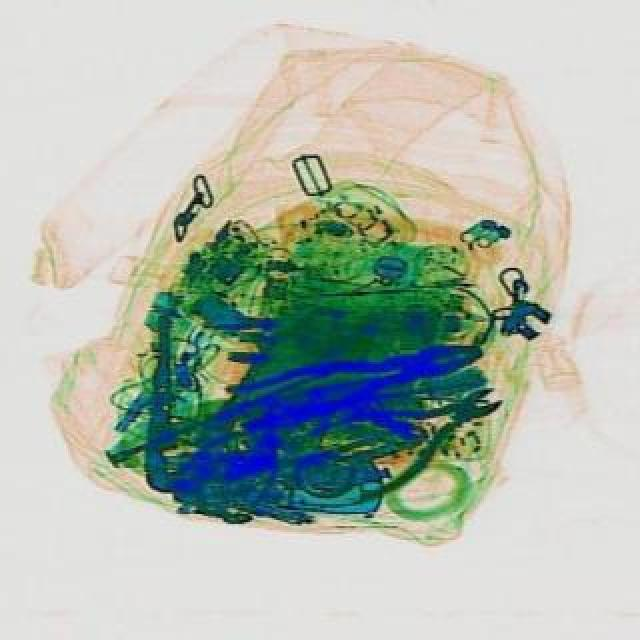wrench: (304, 356, 520, 508), (220, 320, 488, 436)
